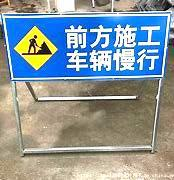sign: (4, 15, 164, 78)
